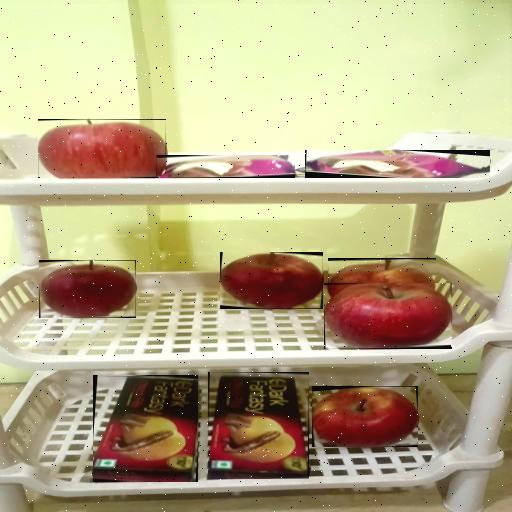Apple: (325, 283, 451, 349), (38, 120, 166, 177), (313, 386, 418, 447), (220, 252, 323, 309), (39, 260, 136, 318), (329, 259, 436, 295)
Choco Fills: (93, 377, 198, 481), (208, 373, 308, 477)
Choco Pie: (306, 150, 490, 178), (160, 155, 295, 178)
